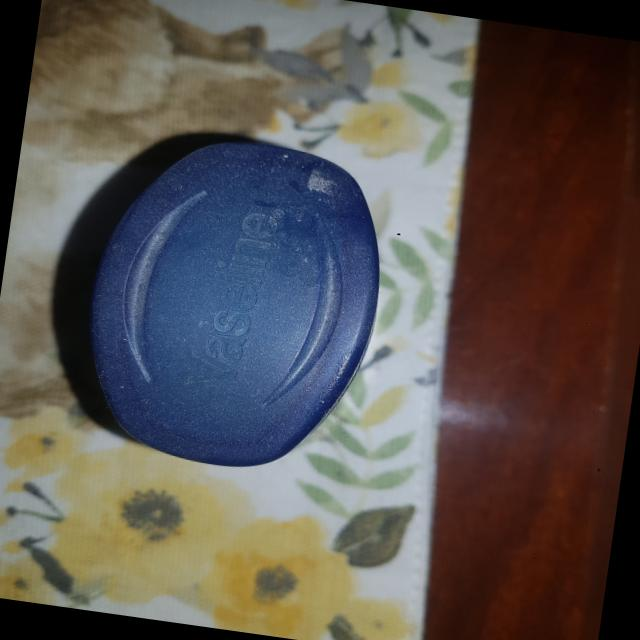general: (68, 120, 399, 485)
